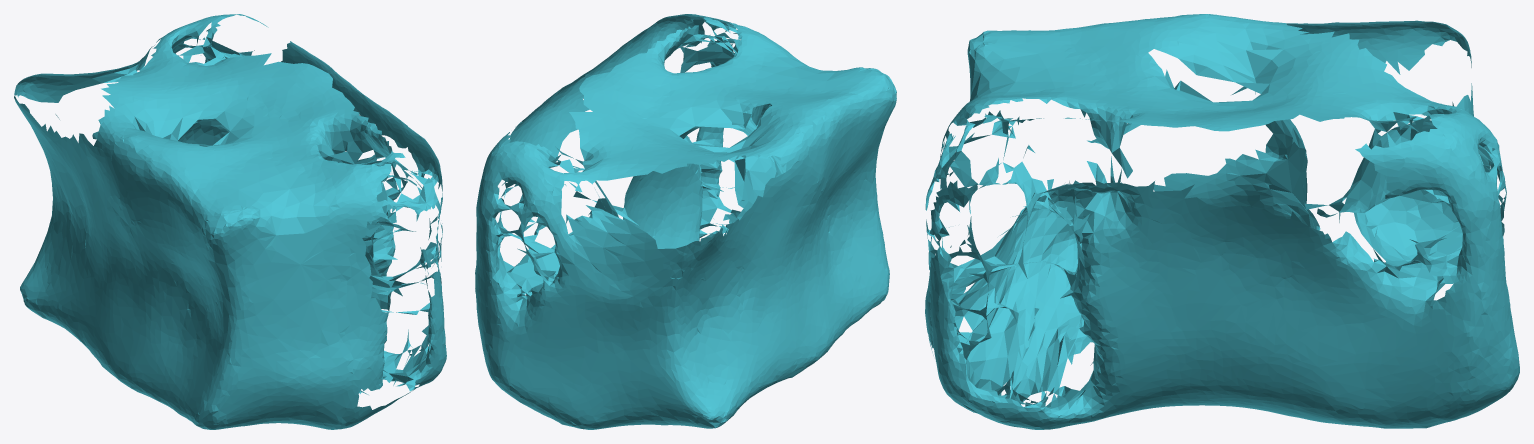
The picture shows the model from 3 angles, left to right: view 1: azimuth 30°, elevation 25°; view 2: azimuth 150°, elevation 25°; view 3: azimuth 270°, elevation 25°; orthographic projection. The views are drawn at different scales.
Visible parts, largest first — view 1: Renderer Node; view 2: Renderer Node; view 3: Renderer Node.
Boxes of the visible parts, x1,y1,x2,y2 form: Renderer Node: (14,14,446,429); Renderer Node: (475,14,896,429); Renderer Node: (925,14,1519,429).
Bounding box in the file's own units: 0.4247 × 0.4343 × 0.7241.
Materials: 1 (1 with a texture image).
